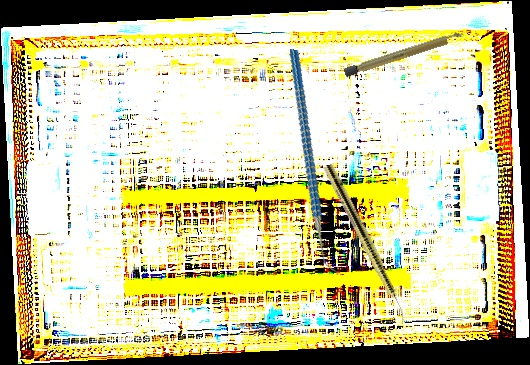Chopper: (250, 48, 380, 275)
Handpiece: (321, 163, 413, 326)
Scalpel Handle: (342, 29, 467, 79)
